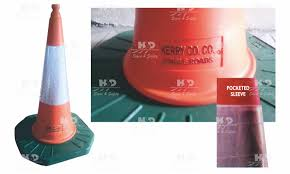cones: (13, 4, 94, 162)
